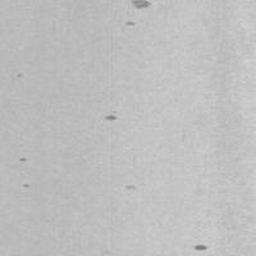Inclusion: (132, 0, 152, 10), (193, 244, 209, 252), (105, 114, 118, 122), (125, 20, 137, 27)
